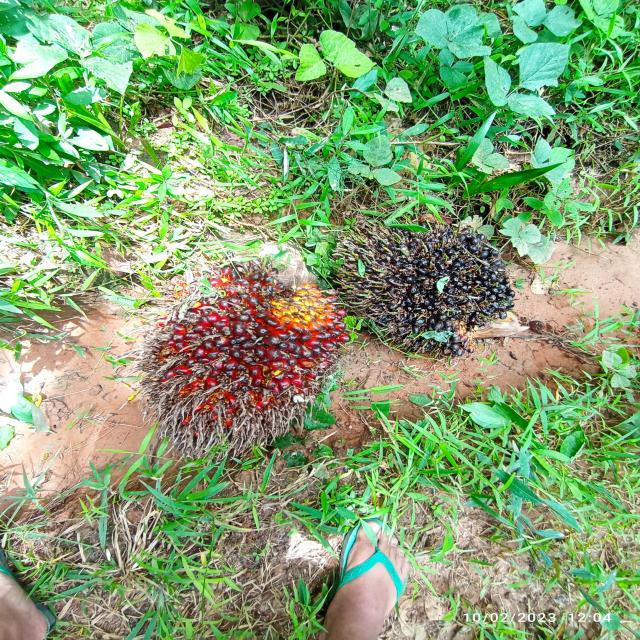fraksi 00: (337, 190, 578, 384)
fraksi 3: (136, 251, 350, 467)
